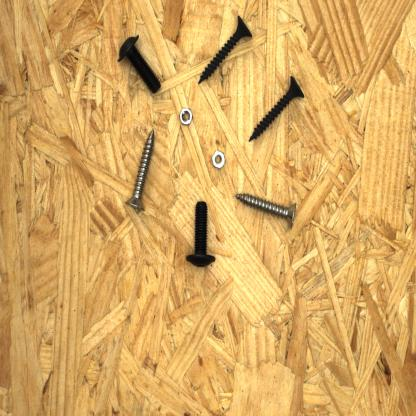screw: (195, 12, 255, 90), (247, 72, 307, 146), (115, 31, 164, 99), (231, 188, 300, 233), (124, 124, 156, 214), (181, 199, 221, 271)
